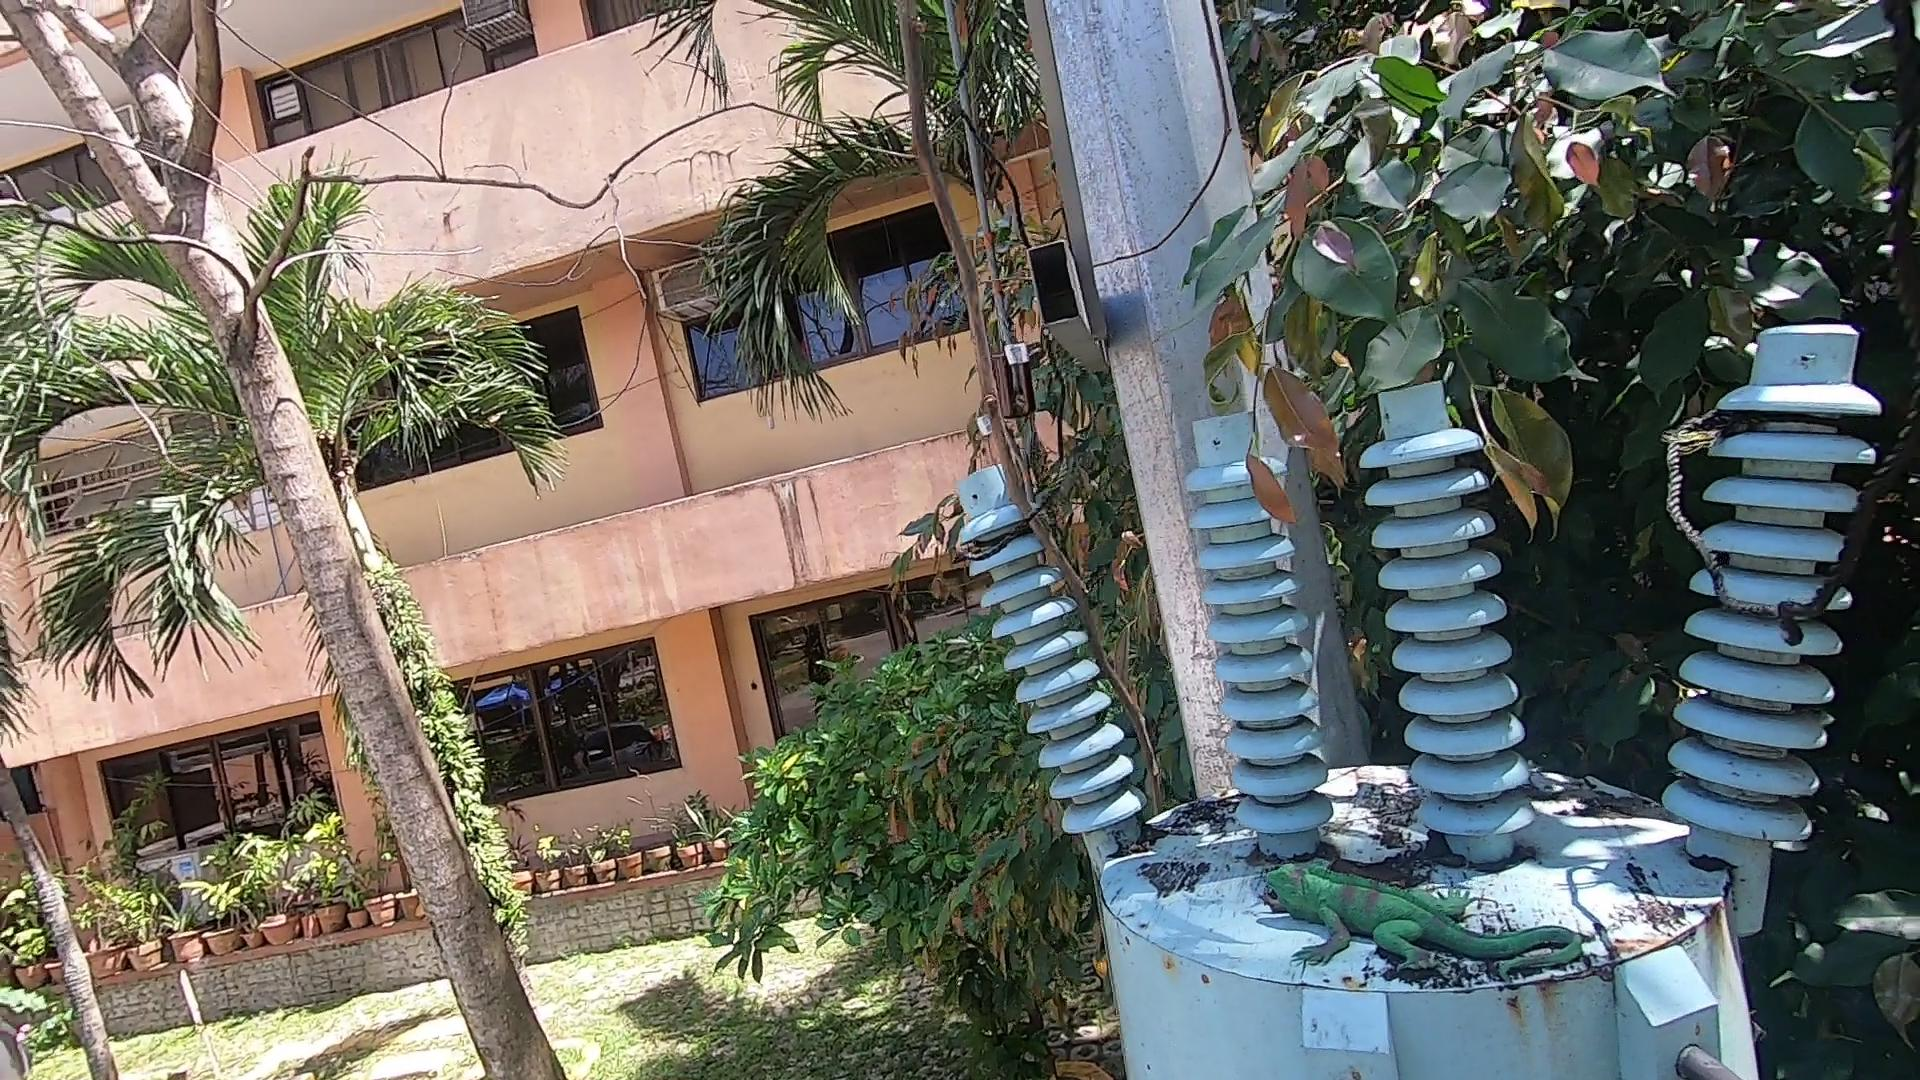leaf: (1188, 189, 1617, 571), (1552, 769, 1672, 829), (1333, 837, 1456, 880), (1106, 822, 1160, 876)
tree branch: (851, 9, 1182, 808)
